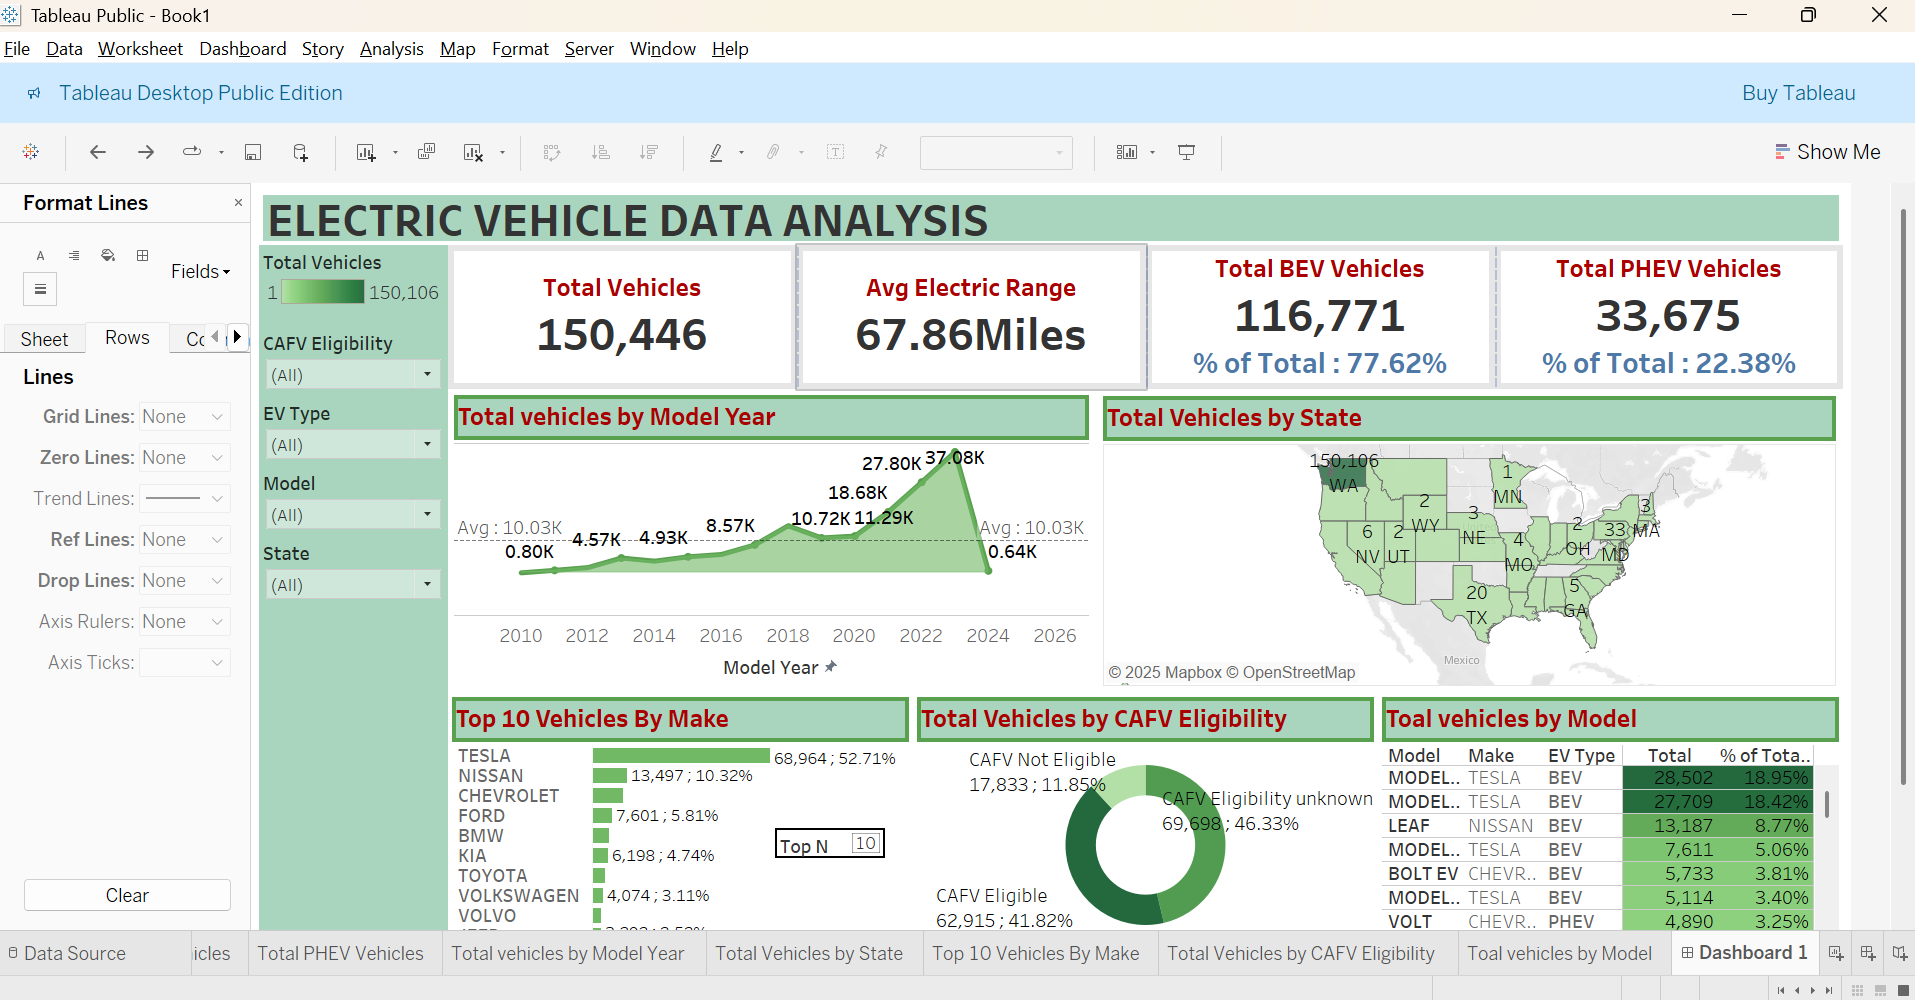

What the dashboard file says about the page in this screenshot:
{"tool":"tableau","page":{"name":"Dashboard 1","canvas":[1000,1000],"units":"permille","ordinal":0},"visuals":[{"type":"title","box":[5,8.9,990,60]},{"type":"legend","title":"Total Vehicles by State","param":"[federated.0i6yl1t0fvjxat19mj01u0k7hjj6].[usr:Calculation_1283244473730334720:qk","box":[5,68.9,118.4,90]},{"type":"worksheet","title":"Total Vehicles","mark":"Automatic","box":[123.1,68.9,218.1,160]},{"type":"worksheet","title":"Avg Electric Range","mark":"Automatic","box":[341.2,68.9,218.1,160]},{"type":"worksheet","title":"Total BEV Vehicles","mark":"Automatic","box":[559.4,68.9,218.1,160]},{"type":"worksheet","title":"Total PHEV Vehicles","mark":"Automatic","box":[777.5,68.9,217.5,160]},{"type":"filter","title":"Total vehicles by Model Year","param":"[federated.0i6yl1t0fvjxat19mj01u0k7hjj6].[none:Clean Alternative Fuel Vehicle (C","box":[5,158.9,118.4,77.8]},{"type":"worksheet","title":"Total vehicles by Model Year","mark":"Automatic","rows":["Calculation_1283244473730334720","Calculation_1283244473730334720"],"cols":["Model Year"],"box":[123.4,228.9,404.6,337.8]},{"type":"worksheet","title":"Total Vehicles by State","mark":"Multipolygon","box":[527.9,228.9,467.1,337.8]},{"type":"filter","title":"Total vehicles by Model Year","param":"[federated.0i6yl1t0fvjxat19mj01u0k7hjj6].[none:Electric Vehicle Type:nk]","box":[5,236.7,118.4,77.8]},{"type":"filter","title":"Total vehicles by Model Year","param":"[federated.0i6yl1t0fvjxat19mj01u0k7hjj6].[none:Model:nk]","box":[5,314.4,118.4,77.8]},{"type":"filter","title":"Total vehicles by Model Year","param":"[federated.0i6yl1t0fvjxat19mj01u0k7hjj6].[none:State:nk]","box":[5,392.2,118.4,77.8]},{"type":"worksheet","title":"Top 10 Vehicles By Make","mark":"Automatic","rows":["Make"],"cols":["Calculation_1283244473730334720"],"box":[123.1,566.7,290.6,284.4]},{"type":"worksheet","title":"Total Vehicles by CAFV Eligibility","mark":"Pie","rows":["Calculation_161003742462488580","Calculation_161003742462488580"],"box":[413.8,566.7,290.6,284.4]},{"type":"worksheet","title":"Toal vehicles by Model","mark":"Square","rows":["Model","Make","Electric Vehicle Type"],"box":[704.4,566.7,290.6,284.4]},{"type":"parameter","param":"[Parameters].[Parameter 1]","box":[327.5,716.7,68.8,33.3]},{"type":"blank","box":[123.4,851.1,871.6,140]}]}

Visuals, with their boxes on the dashboard's canvas, which has no fixed pixel size, in thousandths of its width and height (x1, y1, x2, y2). These are canvas units, not pixel positions in the 1915x1000 screenshot, which may show the page scaled, cropped or inside an application window:
title: box=[5, 9, 995, 69]
"Total Vehicles by State" legend: box=[5, 69, 123, 159]
"Total Vehicles" worksheet: box=[123, 69, 341, 229]
"Avg Electric Range" worksheet: box=[341, 69, 559, 229]
"Total BEV Vehicles" worksheet: box=[559, 69, 778, 229]
"Total PHEV Vehicles" worksheet: box=[778, 69, 995, 229]
"Total vehicles by Model Year" filter: box=[5, 159, 123, 237]
"Total vehicles by Model Year" worksheet: box=[123, 229, 528, 567]
"Total Vehicles by State" worksheet (Multipolygon marks): box=[528, 229, 995, 567]
"Total vehicles by Model Year" filter: box=[5, 237, 123, 314]
"Total vehicles by Model Year" filter: box=[5, 314, 123, 392]
"Total vehicles by Model Year" filter: box=[5, 392, 123, 470]
"Top 10 Vehicles By Make" worksheet: box=[123, 567, 414, 851]
"Total Vehicles by CAFV Eligibility" worksheet (Pie marks): box=[414, 567, 704, 851]
"Toal vehicles by Model" worksheet (Square marks): box=[704, 567, 995, 851]
parameter: box=[328, 717, 396, 750]
blank: box=[123, 851, 995, 991]
